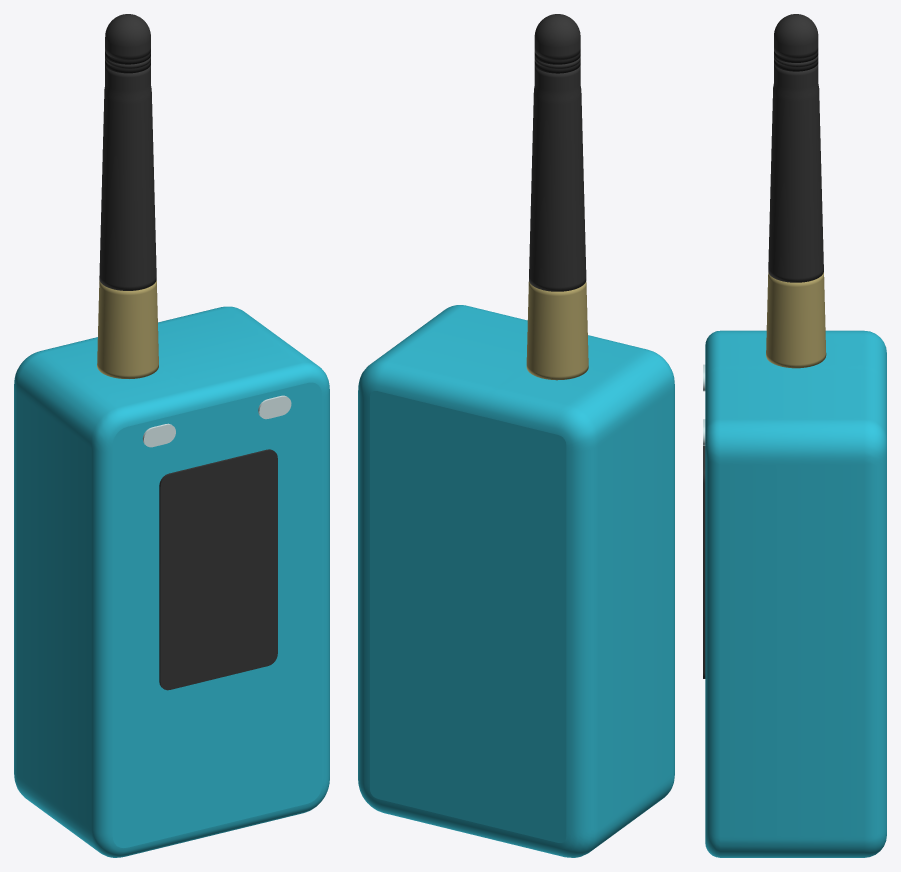
File: heltec-mesh-node-t114-case.glb
3 renders of one model, left to right at view 1: azimuth 30°, elevation 25°; view 2: azimuth 150°, elevation 25°; view 3: azimuth 270°, elevation 25°, orthographic. The views are drawn at different scales.
Parts seen in each view (by area): view 1: Body, Face_353535, Antenna_1, Antenna_0, Antenna_5, Face_dcf0f2; view 2: Body, Antenna_1, Antenna_0, Antenna_5; view 3: Body, Antenna_1, Antenna_0, Antenna_5, Face_353535.
Boxes of the visible parts, left/top/right/bottom form: Body: left=14, top=306, right=329, bottom=857; Face_353535: left=159, top=449, right=277, bottom=690; Antenna_1: left=99, top=64, right=156, bottom=290; Antenna_0: left=97, top=280, right=158, bottom=378; Antenna_5: left=105, top=14, right=150, bottom=60; Face_dcf0f2: left=142, top=395, right=291, bottom=447; Body: left=358, top=305, right=674, bottom=857; Antenna_1: left=529, top=65, right=586, bottom=291; Antenna_0: left=526, top=281, right=588, bottom=380; Antenna_5: left=534, top=14, right=580, bottom=60; Body: left=705, top=330, right=886, bottom=857; Antenna_1: left=768, top=64, right=823, bottom=282; Antenna_0: left=766, top=272, right=826, bottom=368; Antenna_5: left=774, top=14, right=818, bottom=58; Face_353535: left=703, top=446, right=705, bottom=678.
Size of the model in its own units: 0.035 by 0.1131 by 0.0243.
